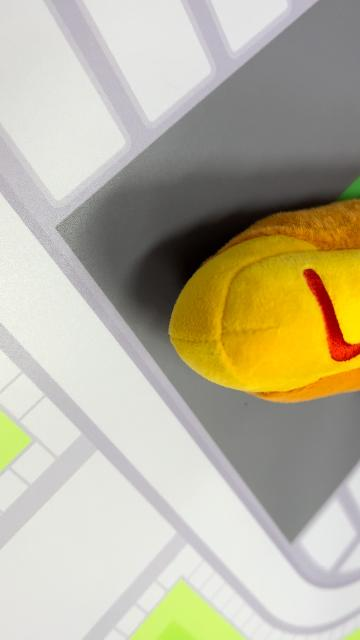hotdog: (167, 198, 358, 404)
